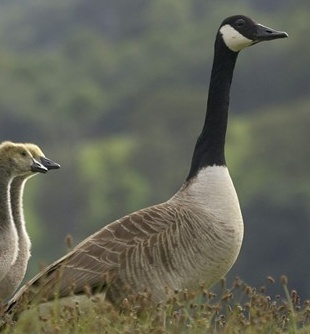goose: (16, 8, 290, 319)
